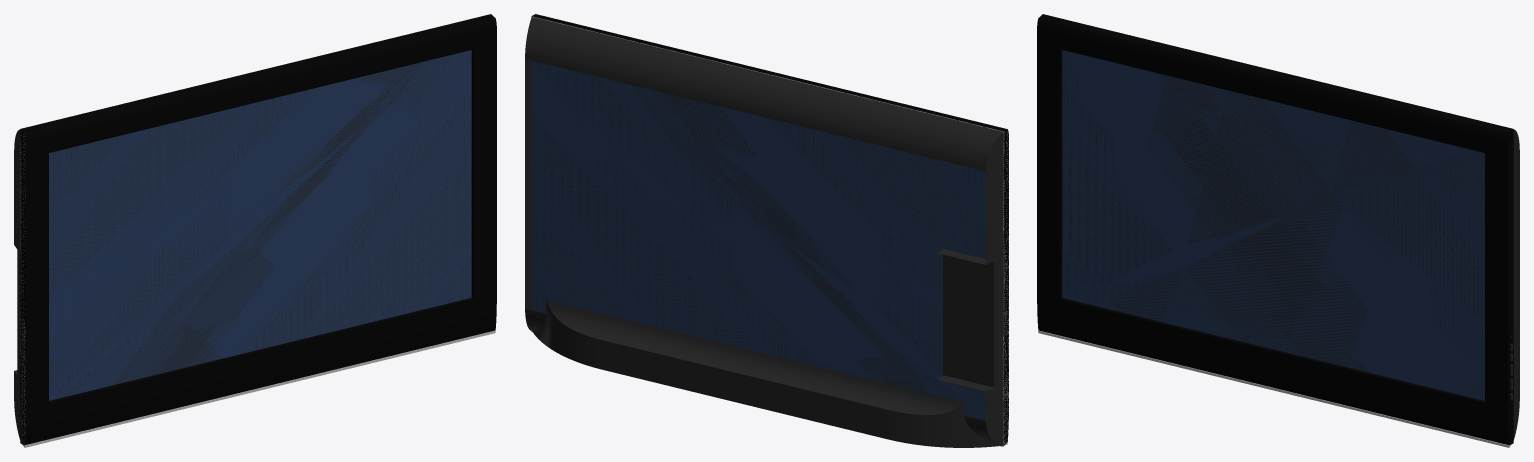
File: improTablet.dae
3 renders of one model, left to right at view 1: azimuth 30°, elevation 25°; view 2: azimuth 150°, elevation 25°; view 3: azimuth 330°, elevation 25°, orthographic.
Visible parts, largest first — view 1: SketchUp (×6); view 2: SketchUp (×6); view 3: SketchUp (×6).
Part boxes in pixels (<box>): SketchUp (×6): <box>14,14,496,447</box>; SketchUp (×6): <box>525,14,1008,447</box>; SketchUp (×6): <box>1037,14,1519,447</box>.
Size of the model in its own units: 36.26 by 3.7 by 23.19.
